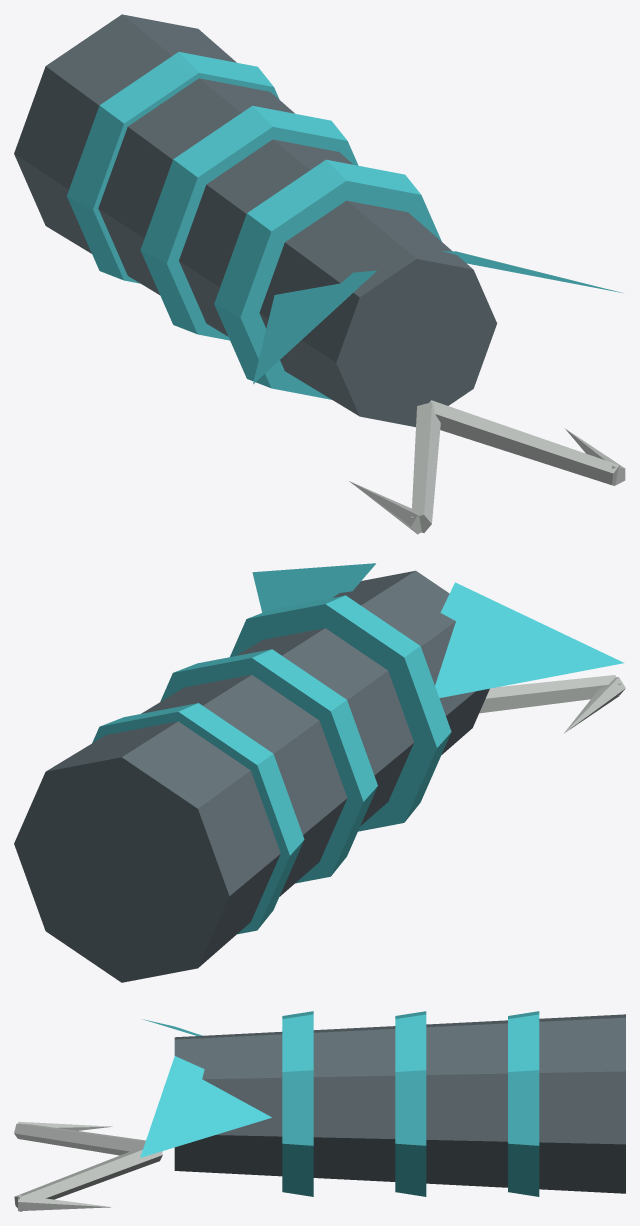
The model's file is ScientificBossLure.fbx.
3 views of the same model, one above another, from view 1: azimuth 30°, elevation 25°; view 2: azimuth 150°, elevation 25°; view 3: azimuth 270°, elevation 25° (orthographic). The views are drawn at different scales.
Visible parts, largest first — view 1: LureBody, Ring2, Ring1, Ring0, Hook-1, Vane1, Hook1, Vane-1, HookTip1; view 2: LureBody, Ring2, Vane1, Ring1, Ring0, Vane-1, Hook1, HookTip1; view 3: LureBody, Vane-1, Ring0, Ring1, Ring2, Hook-1, Hook1, HookTip-1, HookTip1.
Part boxes in pixels (x1,y1,x2,y2): LureBody: [14, 14, 497, 427]; Ring2: [214, 159, 441, 399]; Ring1: [140, 105, 358, 340]; Ring0: [67, 52, 279, 283]; Hook-1: [429, 400, 619, 485]; Vane1: [253, 270, 376, 384]; Hook1: [411, 402, 440, 532]; Vane-1: [442, 251, 623, 293]; HookTip1: [349, 481, 421, 534]; LureBody: [14, 570, 489, 982]; Ring2: [230, 595, 451, 831]; Vane1: [435, 582, 623, 697]; Ring1: [160, 649, 377, 883]; Ring0: [92, 703, 304, 934]; Vane-1: [252, 563, 375, 612]; Hook1: [479, 675, 620, 713]; HookTip1: [564, 677, 625, 733]; LureBody: [174, 1014, 625, 1193]; Vane-1: [140, 1056, 271, 1157]; Ring0: [508, 1011, 539, 1196]; Ring1: [395, 1011, 426, 1196]; Ring2: [282, 1011, 313, 1196]; Hook-1: [14, 1146, 162, 1211]; Hook1: [14, 1123, 162, 1155]; HookTip-1: [18, 1195, 112, 1211]; HookTip1: [18, 1121, 112, 1137].
Size of the model in its own units: 0.19 by 0.114 by 0.3526.
